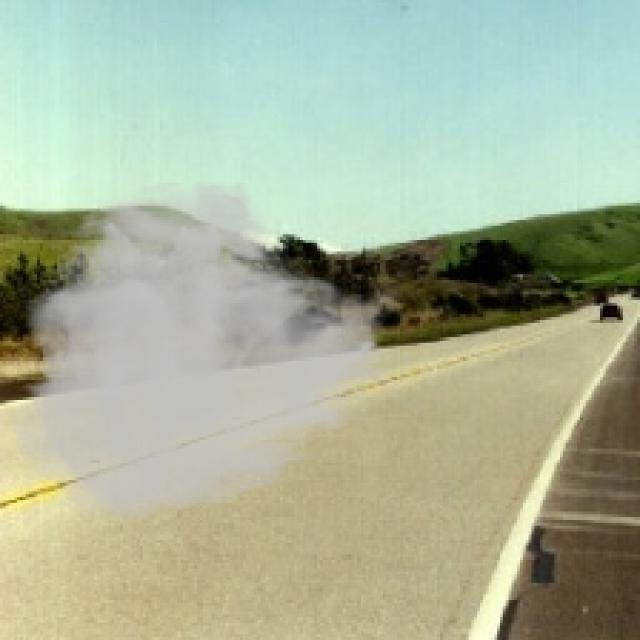smoke: (6, 177, 406, 526)
